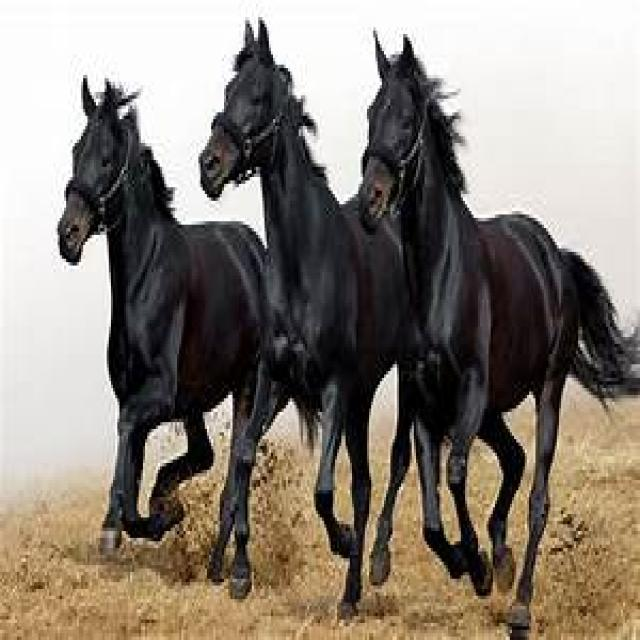horse: (360, 38, 621, 638), (200, 22, 409, 617), (58, 78, 264, 558)
